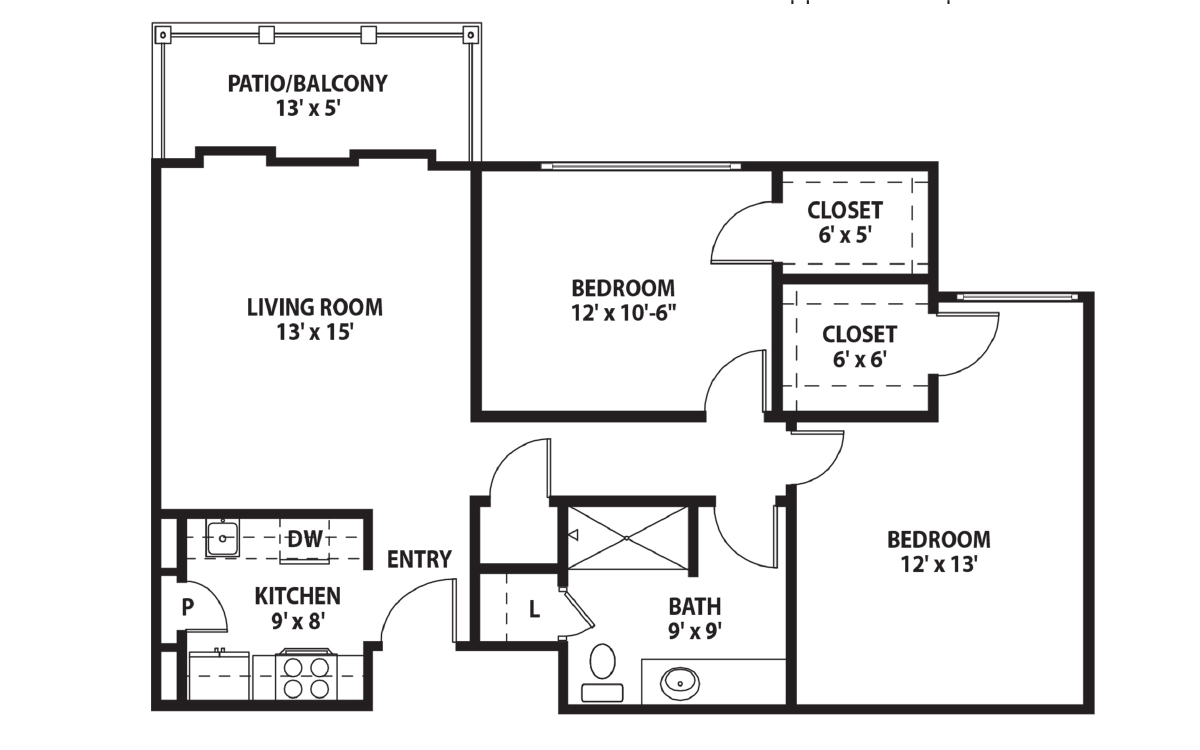door: (699, 197, 773, 265), (485, 428, 557, 496), (712, 512, 784, 580), (698, 339, 770, 407), (792, 426, 864, 494), (941, 308, 1013, 376), (380, 571, 457, 634), (562, 589, 606, 634)
wall: (1079, 295, 1099, 706), (150, 158, 161, 516), (469, 170, 484, 420), (152, 697, 371, 712), (764, 409, 945, 426), (477, 410, 703, 423), (785, 486, 798, 707), (777, 704, 1095, 712), (546, 491, 713, 506), (559, 706, 803, 715), (741, 162, 940, 173), (774, 273, 931, 286), (343, 144, 440, 165), (150, 509, 374, 518), (769, 260, 782, 413), (471, 495, 482, 646), (452, 639, 566, 653), (264, 153, 363, 169), (927, 160, 937, 317), (427, 158, 542, 171), (193, 144, 275, 159), (361, 643, 382, 701), (685, 509, 701, 585), (557, 504, 571, 585), (557, 641, 569, 717), (150, 155, 206, 170), (150, 644, 163, 707), (152, 576, 163, 649), (177, 518, 188, 584), (363, 513, 375, 571), (767, 162, 784, 200), (930, 378, 945, 421), (152, 517, 162, 574), (177, 631, 185, 697), (152, 570, 178, 578)
